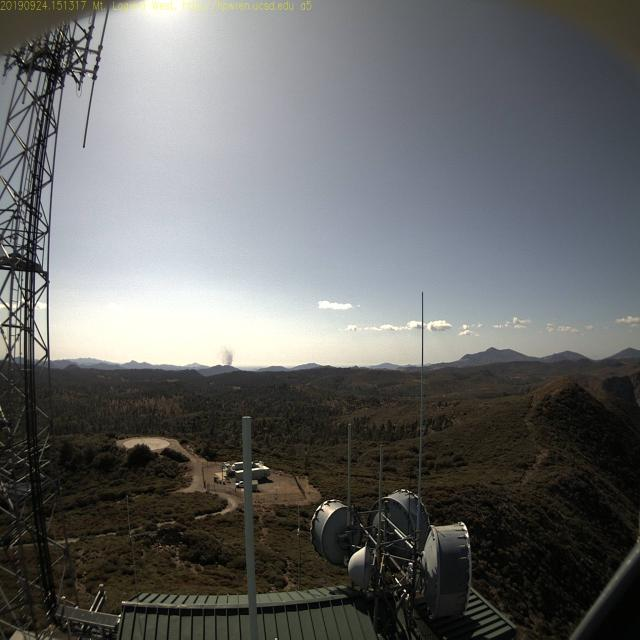smoke: (218, 344, 234, 368)
